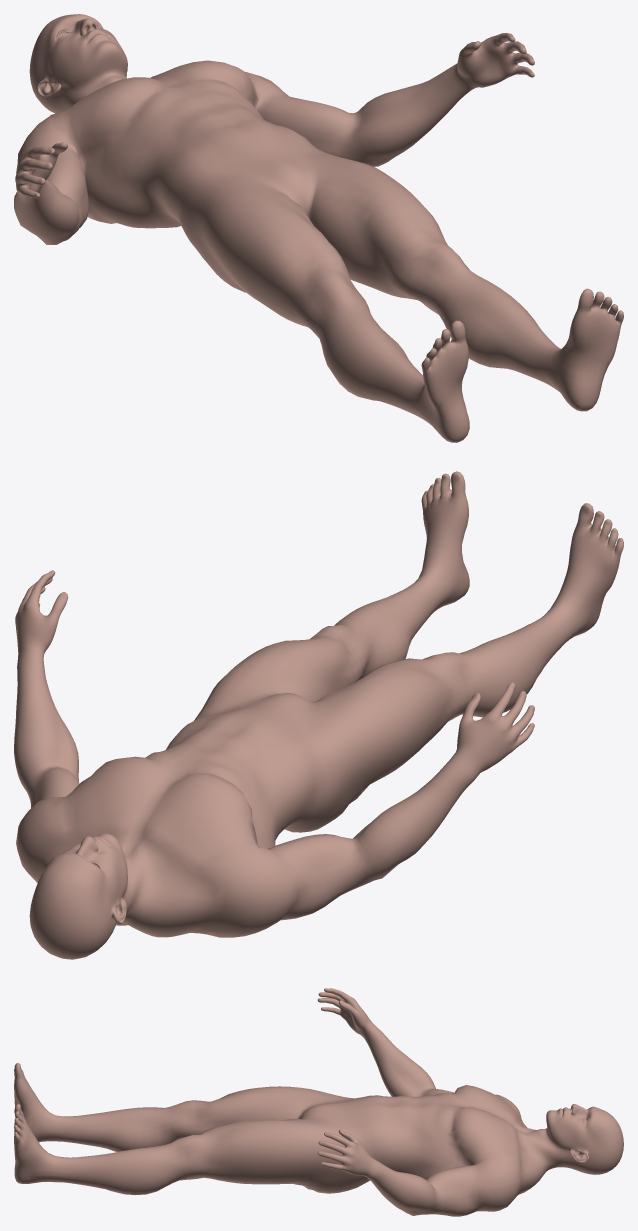
3 views of the same model, one above another, from view 1: azimuth 30°, elevation 25°; view 2: azimuth 150°, elevation 25°; view 3: azimuth 270°, elevation 25° (orthographic). The views are drawn at different scales.
Parts seen in each view (by area): view 1: Body_Meshes; view 2: Body_Meshes; view 3: Body_Meshes.
Part boxes in pixels (left/top/right/bottom): Body_Meshes: left=14, top=14, right=623, bottom=442; Body_Meshes: left=14, top=471, right=623, bottom=959; Body_Meshes: left=14, top=988, right=623, bottom=1216.
Bounding box in the file's own units: 111 × 42.4 × 180.
